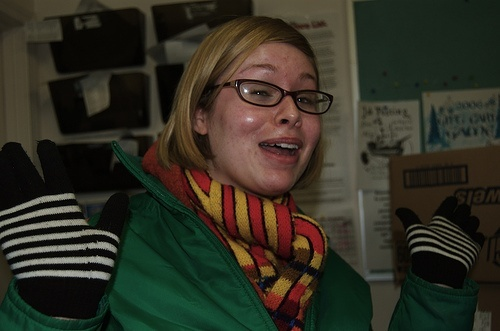head: (191, 14, 323, 198)
person: (69, 1, 377, 331)
